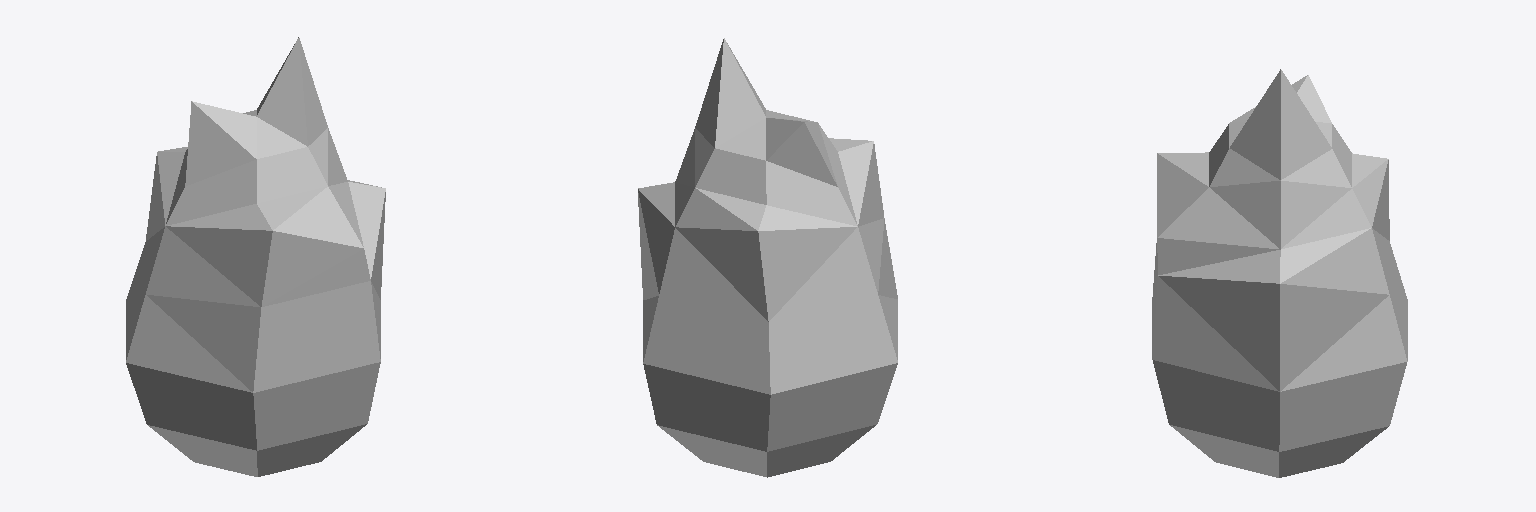
Rendered from HoneyTowerProjectile0.obj.
The picture shows the model from 3 angles: view 1: azimuth 30°, elevation 25°; view 2: azimuth 150°, elevation 25°; view 3: azimuth 270°, elevation 25°; orthographic projection.
Parts seen in each view (by area): view 1: HoneyProjectile; view 2: HoneyProjectile; view 3: HoneyProjectile.
Boxes of the visible parts, x1,y1,x2,y2 form: HoneyProjectile: [126, 37, 385, 476]; HoneyProjectile: [638, 38, 897, 477]; HoneyProjectile: [1152, 69, 1407, 477].
Bounding box in the file's own units: 0.4303 × 0.6581 × 0.3649.